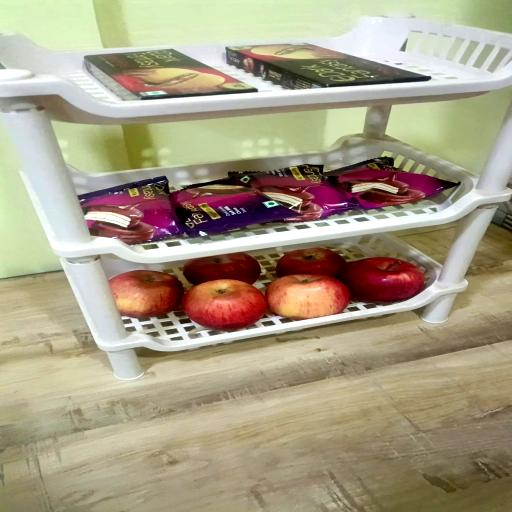Apple: (182, 279, 266, 331), (336, 257, 424, 303), (265, 275, 350, 320), (109, 270, 184, 318), (183, 253, 261, 285), (276, 248, 346, 277)
Choco Fills: (226, 43, 430, 90), (84, 49, 257, 100)
Choco Pie: (172, 173, 291, 237), (229, 164, 356, 221), (78, 176, 183, 244), (325, 157, 459, 210)
